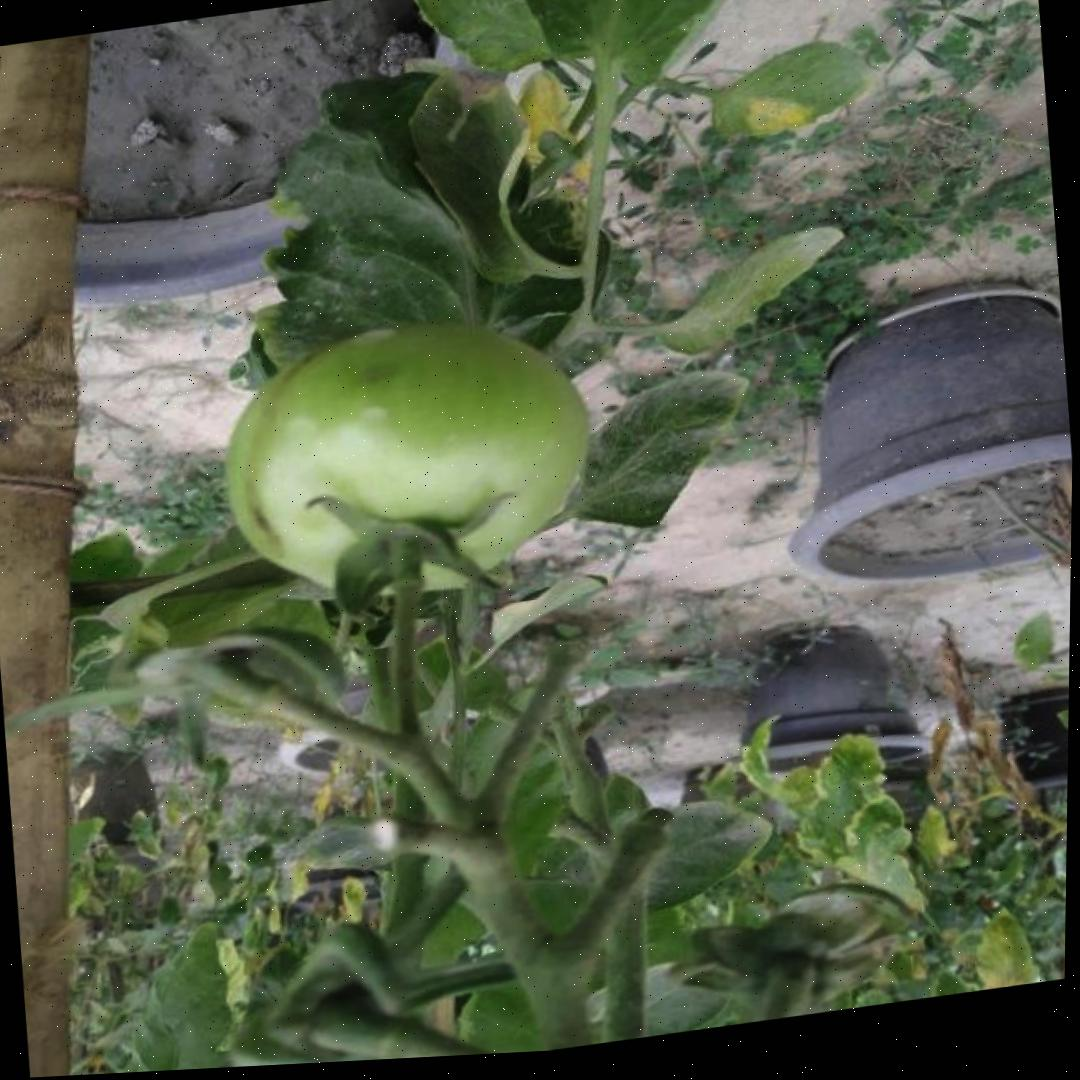mentah: (211, 296, 605, 624)
